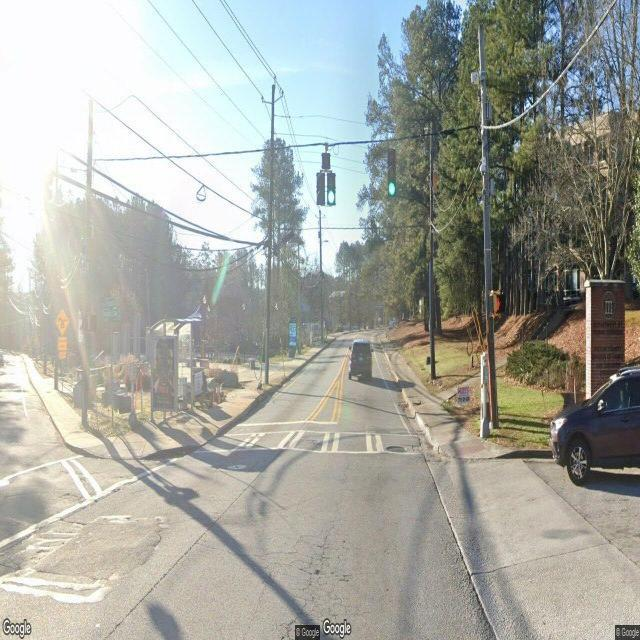seating: (178, 394, 185, 414)
shelter: (146, 316, 202, 426)
